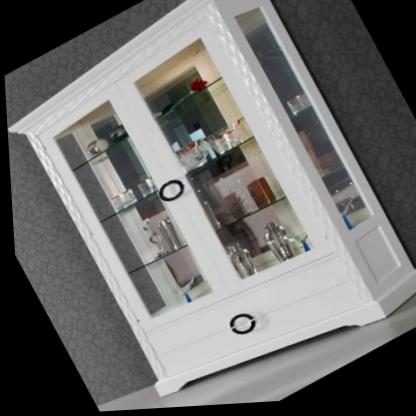Cupboard: (9, 0, 416, 399)
